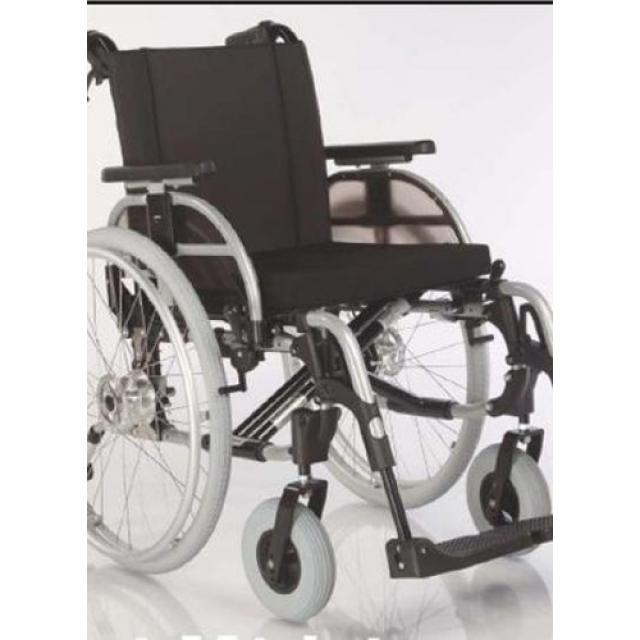wheelchair: (83, 8, 555, 634)
